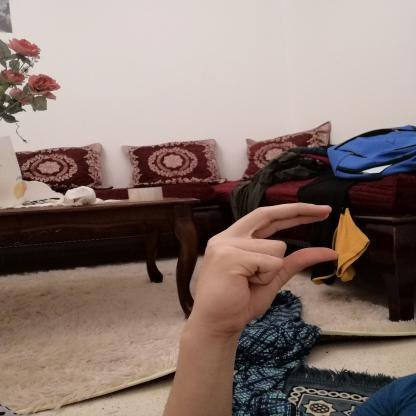DHELL: (187, 194, 350, 336)
